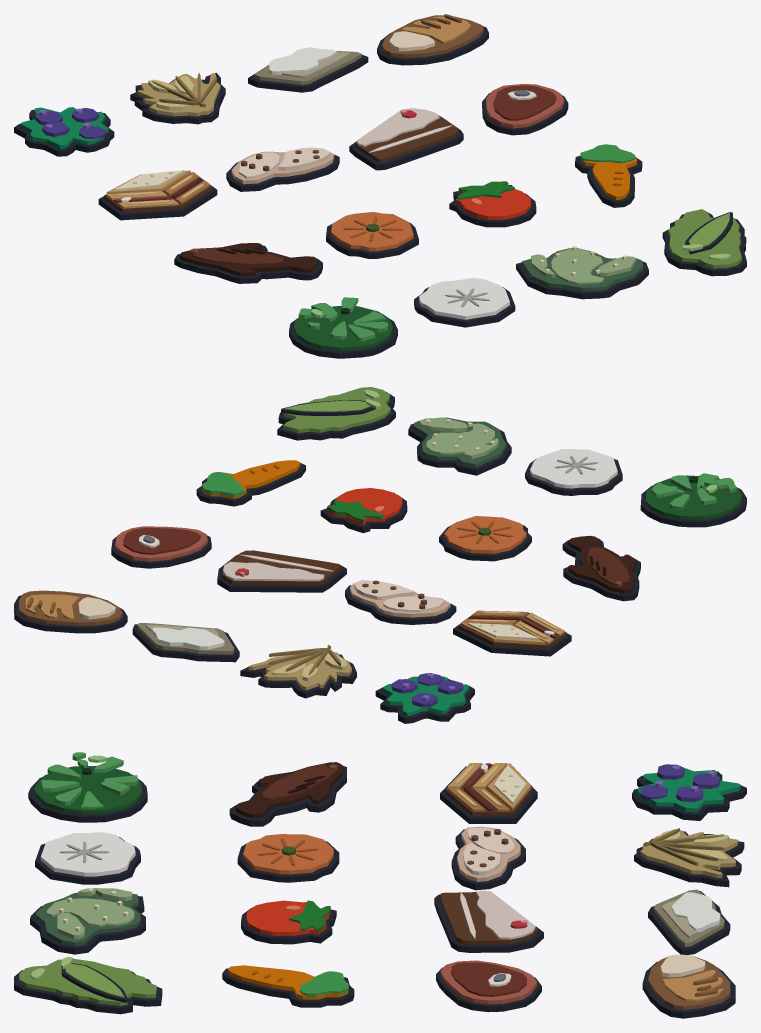
The model's file is food.fbx.
The picture shows the model from 3 angles, top to bottom: view 1: azimuth 30°, elevation 25°; view 2: azimuth 150°, elevation 25°; view 3: azimuth 270°, elevation 25°; orthographic projection. The views are drawn at different scales.
Parts seen in each view (by area): view 1: watermelon, cactus, aloe_vera, cake, sandwich, cooked_fish, bread, garlic, wheat, berry, cooked_meat, cookies (+4 smaller); view 2: aloe_vera, watermelon, cactus, cake, bread, sandwich, wheat, garlic, berry, cooked_fish, cooked_meat, cookies (+4 smaller); view 3: watermelon, aloe_vera, cactus, cake, bread, wheat, sandwich, garlic, berry, cooked_fish, cooked_meat, pumpkin (+4 smaller).
Boxes of the visible parts, bbox=[...] form: watermelon: bbox=[289, 297, 397, 358]; cactus: bbox=[516, 246, 648, 299]; aloe_vera: bbox=[662, 209, 746, 276]; cake: bbox=[349, 108, 463, 170]; sandwich: bbox=[98, 170, 217, 220]; cooked_fish: bbox=[174, 243, 322, 283]; bread: bbox=[377, 14, 488, 65]; garlic: bbox=[414, 278, 515, 327]; wheat: bbox=[130, 72, 225, 124]; berry: bbox=[14, 107, 114, 156]; cooked_meat: bbox=[482, 84, 568, 135]; cookies: bbox=[226, 147, 339, 191]; aloe_vera: bbox=[277, 387, 395, 440]; watermelon: bbox=[640, 473, 746, 527]; cactus: bbox=[408, 417, 511, 475]; cake: bbox=[217, 550, 346, 592]; bread: bbox=[14, 590, 127, 633]; sandwich: bbox=[453, 610, 571, 656]; wheat: bbox=[240, 645, 356, 698]; garlic: bbox=[525, 449, 622, 495]; berry: bbox=[375, 673, 474, 723]; cooked_fish: bbox=[562, 535, 640, 601]; cooked_meat: bbox=[111, 526, 211, 568]; cookies: bbox=[345, 580, 456, 624]; watermelon: bbox=[28, 752, 147, 822]; aloe_vera: bbox=[14, 956, 162, 1014]; cactus: bbox=[30, 888, 145, 954]; cake: bbox=[434, 890, 543, 952]; bread: bbox=[642, 954, 735, 1018]; wheat: bbox=[634, 828, 744, 887]; sandwich: bbox=[440, 763, 537, 823]; garlic: bbox=[35, 832, 140, 884]; berry: bbox=[632, 764, 746, 820]; cooked_fish: bbox=[229, 762, 346, 826]; cooked_meat: bbox=[436, 960, 541, 1012]; pumpkin: bbox=[237, 834, 339, 882].
Size of the model in its own units: 5.44 by 0.29 by 6.77.
Materials: 1 (1 with a texture image).
